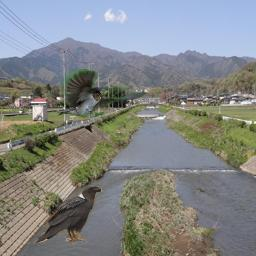Crow: (33, 184, 103, 246)
Swallow: (57, 69, 148, 117)
